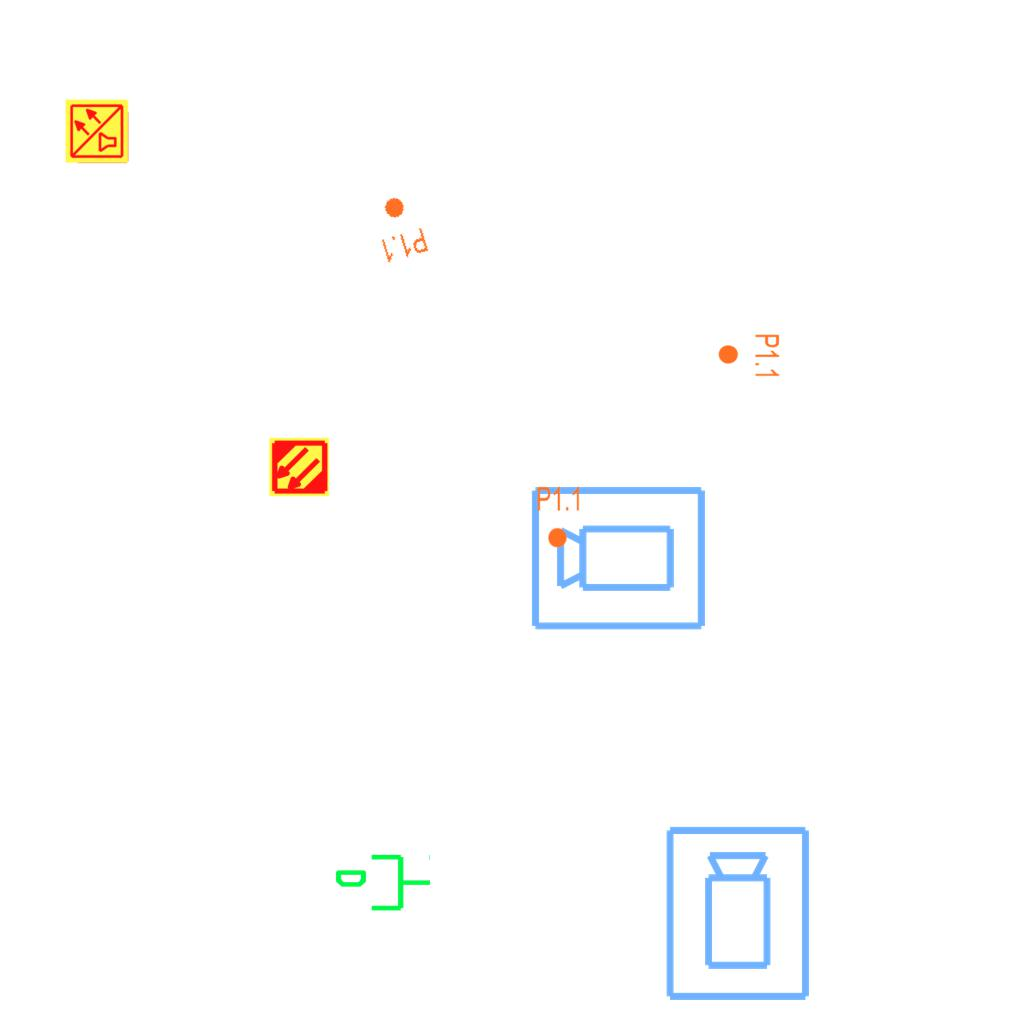ASR_Ansaugrauchmelder: (268, 436, 330, 498)
Datenanschluss_einfach: (333, 850, 433, 919)
Downlight_LED_Einbauleuchten_Flur: (367, 190, 431, 266), (717, 333, 781, 379), (536, 485, 582, 549)
KFO_Kamera_mit_Festobjektiv: (528, 480, 710, 634), (662, 823, 816, 1005)
OKW_Multisensormelder_(Kombination_optischer_Rauch-Kahlenmonoxid_Waerme-Melder): (64, 98, 130, 164)
